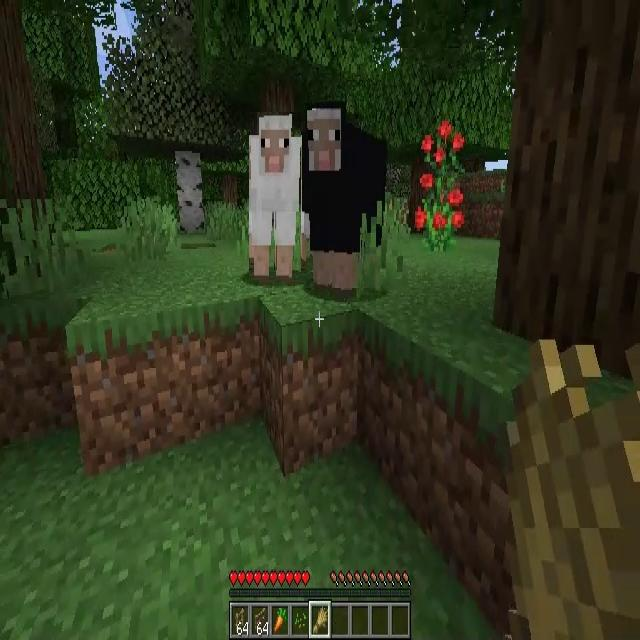sheep: (302, 107, 386, 296), (250, 112, 302, 280)
